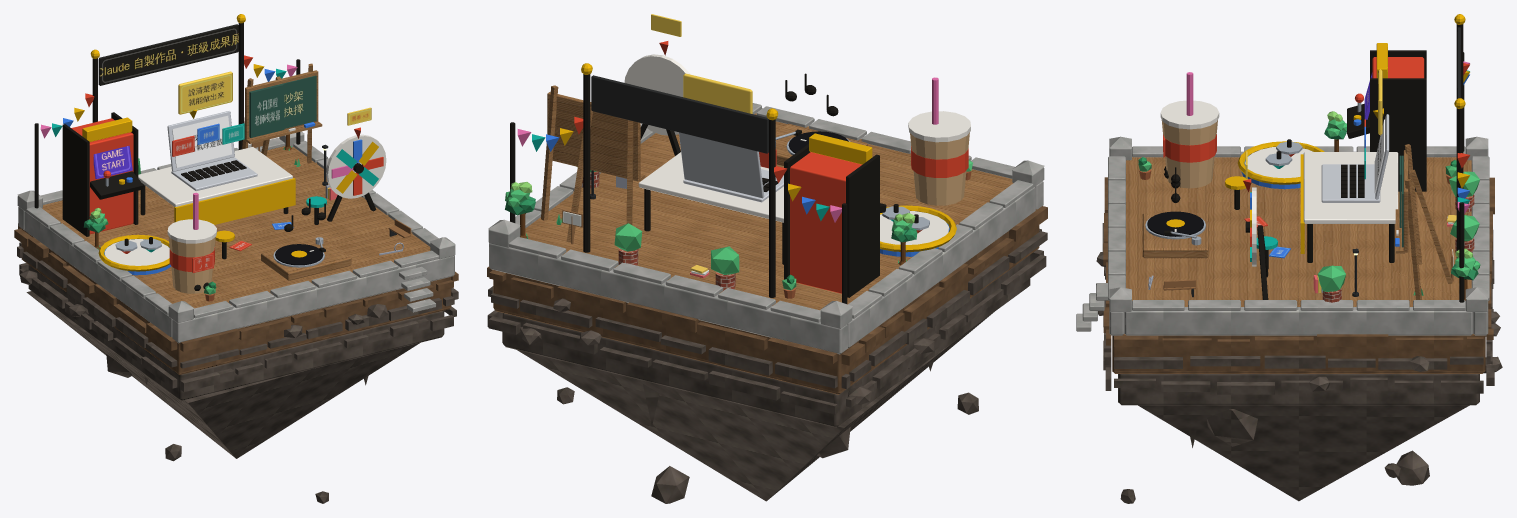
Rendered from classfair.glb.
3 views of the same model, side by side, from view 1: azimuth 30°, elevation 25°; view 2: azimuth 150°, elevation 25°; view 3: azimuth 270°, elevation 25° (orthographic). The views are drawn at different scales.
Parts seen in each view (by area): view 1: classfair_rock, classfair_wood, classfair_concrete, classfair_soil, classfair_ink, classfair_accent, classfair_cream, classfair_sign, classfair_red, classfair_laptop, fxhide_bubble_bubble, fx_board_chalk_txt (+9 smaller); view 2: classfair_rock, classfair_wood, classfair_concrete, classfair_soil, classfair_ink, classfair_red, classfair_sign, classfair_laptop, classfair_cream, classfair_accent, fx_cup_milktea, fx_wheel_cream (+6 smaller); view 3: classfair_rock, classfair_wood, classfair_concrete, classfair_soil, classfair_ink, classfair_cream, classfair_accent, fx_cup_milktea, classfair_leaf, classfair_laptop, props_props_palette, fx_cup_cream (+5 smaller).
Boxes of the visible parts, x1=… form: classfair_rock: x1=17, y1=242, x2=458, y2=503; classfair_wood: x1=42, y1=63, x2=430, y2=308; classfair_concrete: x1=17, y1=131, x2=455, y2=343; classfair_soil: x1=14, y1=223, x2=458, y2=374; classfair_ink: x1=34, y1=22, x2=376, y2=290; classfair_accent: x1=74, y1=14, x2=295, y2=271; classfair_cream: x1=104, y1=147, x2=292, y2=265; classfair_sign: x1=98, y1=24, x2=238, y2=85; classfair_red: x1=71, y1=55, x2=252, y2=234; classfair_laptop: x1=167, y1=111, x2=257, y2=191; fxhide_bubble_bubble: x1=178, y1=71, x2=232, y2=114; fx_board_chalk_txt: x1=250, y1=84, x2=284, y2=137; classfair_rock: x1=487, y1=228, x2=1047, y2=503; classfair_wood: x1=525, y1=85, x2=1013, y2=310; classfair_concrete: x1=488, y1=103, x2=1044, y2=354; classfair_soil: x1=487, y1=206, x2=1047, y2=394; classfair_ink: x1=510, y1=74, x2=886, y2=303; classfair_red: x1=574, y1=116, x2=861, y2=293; classfair_sign: x1=591, y1=75, x2=768, y2=153; classfair_laptop: x1=678, y1=132, x2=783, y2=202; classfair_cream: x1=638, y1=152, x2=948, y2=244; classfair_accent: x1=560, y1=63, x2=956, y2=252; fx_cup_milktea: x1=910, y1=132, x2=969, y2=205; fx_wheel_cream: x1=624, y1=54, x2=690, y2=135; classfair_rock: x1=1096, y1=223, x2=1502, y2=503; classfair_wood: x1=1126, y1=144, x2=1471, y2=306; classfair_concrete: x1=1076, y1=136, x2=1489, y2=335; classfair_soil: x1=1103, y1=177, x2=1494, y2=373; classfair_ink: x1=1164, y1=24, x2=1464, y2=302; classfair_cream: x1=1245, y1=147, x2=1398, y2=223; classfair_accent: x1=1225, y1=14, x2=1469, y2=253; fx_cup_milktea: x1=1161, y1=120, x2=1217, y2=188; classfair_leaf: x1=1317, y1=119, x2=1480, y2=291; classfair_laptop: x1=1321, y1=114, x2=1389, y2=202; props_props_palette: x1=1138, y1=157, x2=1456, y2=297; fx_cup_cream: x1=1160, y1=100, x2=1219, y2=129.
Bounding box in the file's own units: 4.28 × 5.18 × 4.5.
Materials: 34 (17 with a texture image).
